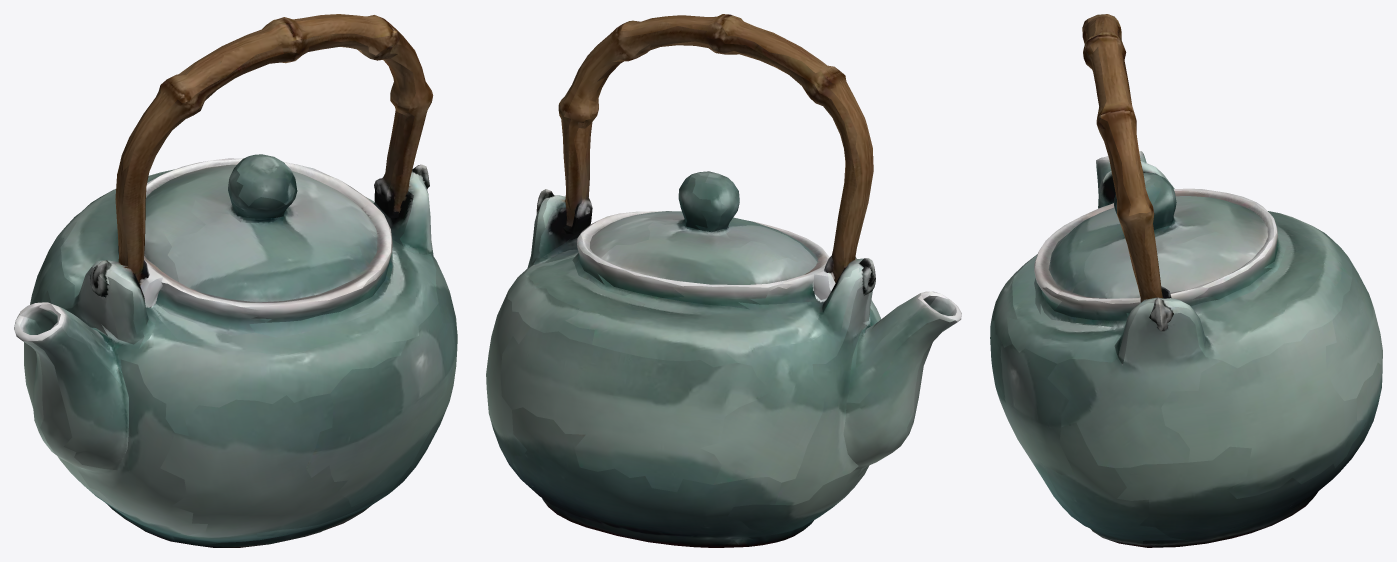
Rendered from teapot__n322.glb.
3 renders of one model, left to right at view 1: azimuth 30°, elevation 25°; view 2: azimuth 150°, elevation 25°; view 3: azimuth 270°, elevation 25°, orthographic. The views are drawn at different scales.
Size of the model in its own units: 0.8195 by 0.8987 by 0.6802.
Materials: 1 (1 with a texture image).
